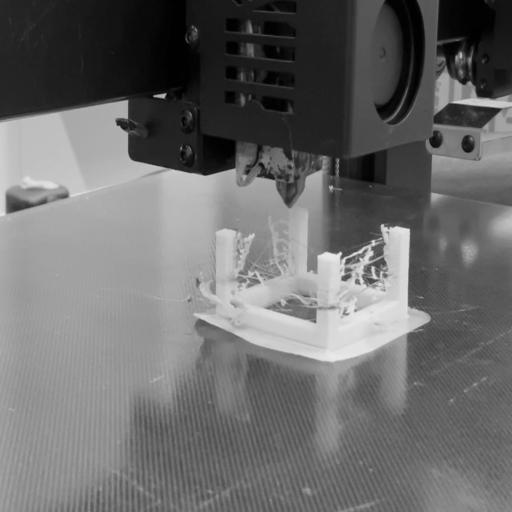spaghetti_and_stringing: (229, 228, 406, 302), (188, 275, 247, 312)
warp: (193, 313, 271, 354), (291, 342, 363, 371)
